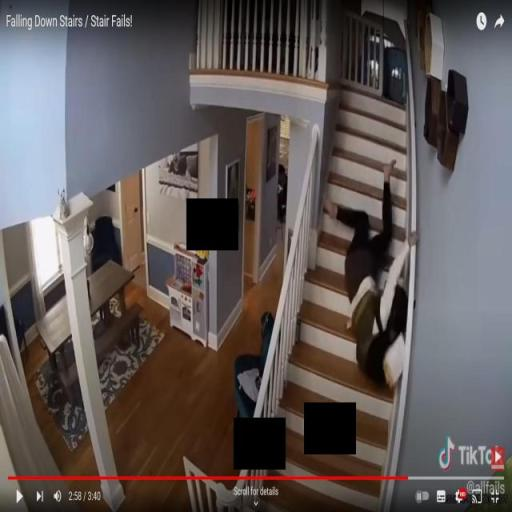Fall: (319, 156, 420, 394)
